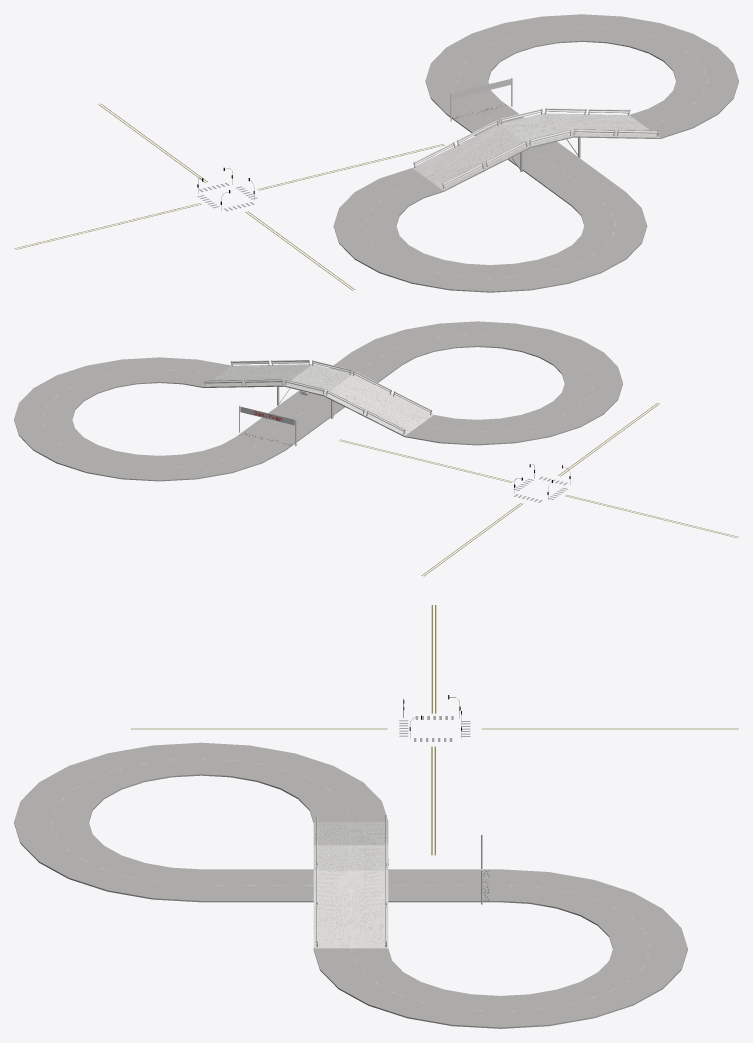
File: int-test-13.fbx
The picture shows the model from 3 angles, top to bottom: view 1: azimuth 30°, elevation 25°; view 2: azimuth 150°, elevation 25°; view 3: azimuth 270°, elevation 25°; orthographic projection. The views are drawn at different scales.
Visible parts, largest first — view 1: group_0.015, group_0.012; view 2: group_0.015, group_0.012; view 3: group_0.015, group_0.012.
Part boxes in pixels (x1,y1,x2,y2): group_0.015: (333,14,738,292); group_0.012: (412,113,660,191); group_0.015: (14,321,622,481); group_0.012: (203,364,433,435); group_0.015: (14,742,687,1028); group_0.012: (313,822,388,948).
Size of what is drawn, in the model's own units: 337 by 13.82 by 242.
